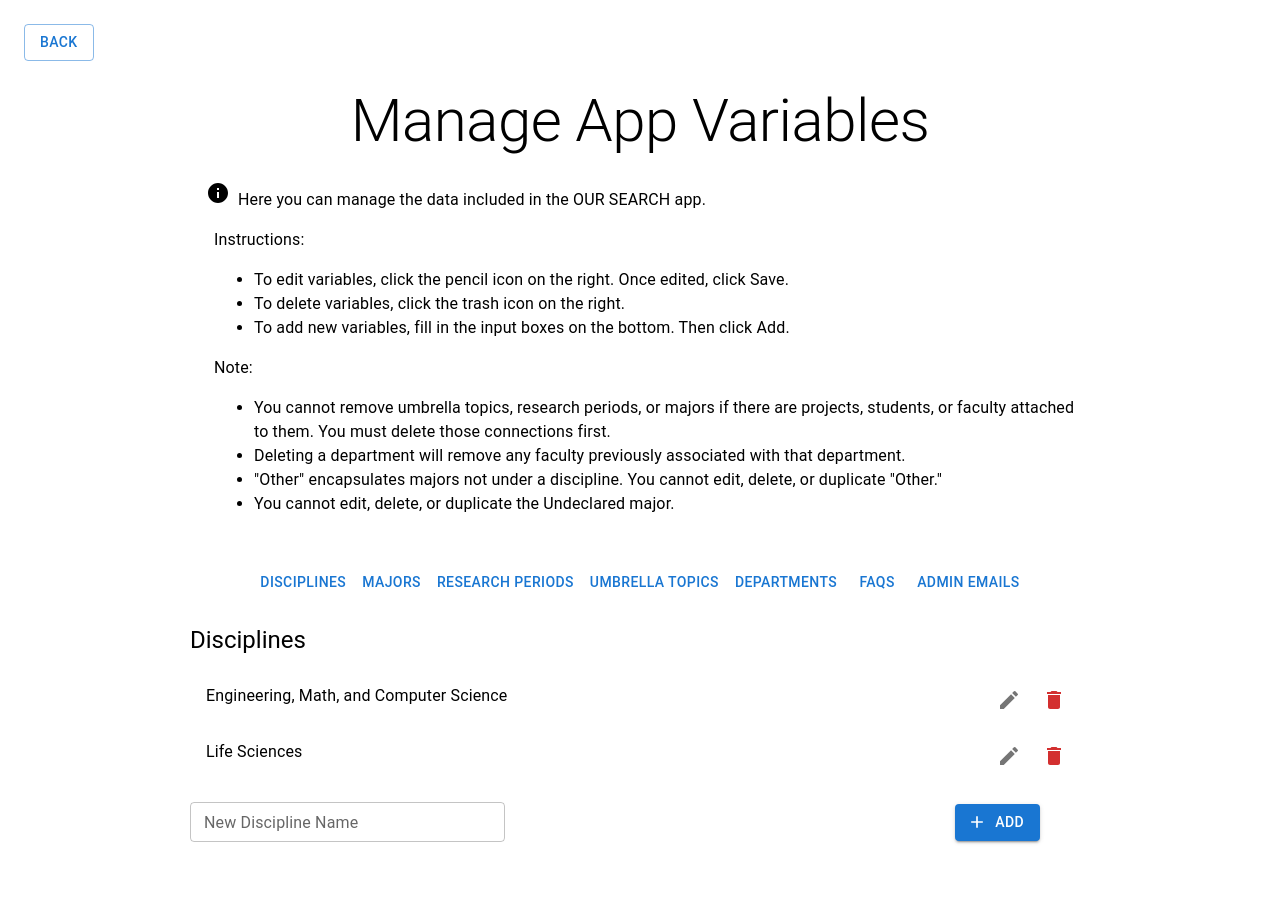
it: ManageVariables › handling disciplines › deleting › asks for confirmation before deleting
Click the 1st button with test id "delete-discipline-btn": [1054, 700] box x1=1034 y1=680 x2=1074 y2=720
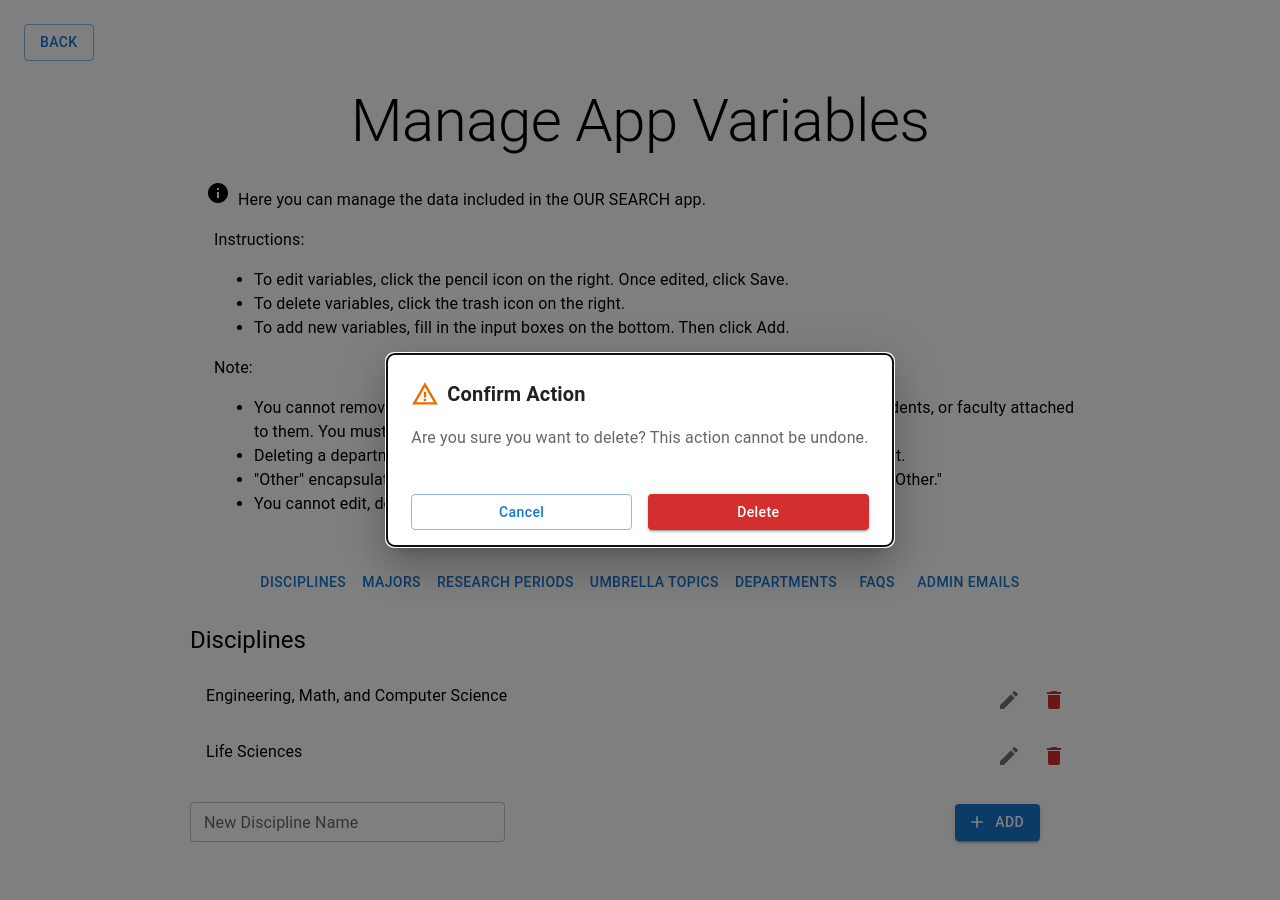
Expected: the text "Are you sure you want to delete" is shown, x1=411 y1=426 x2=869 y2=450
Expected: the button with test id "confirm" is shown, x1=648 y1=494 x2=869 y2=530
